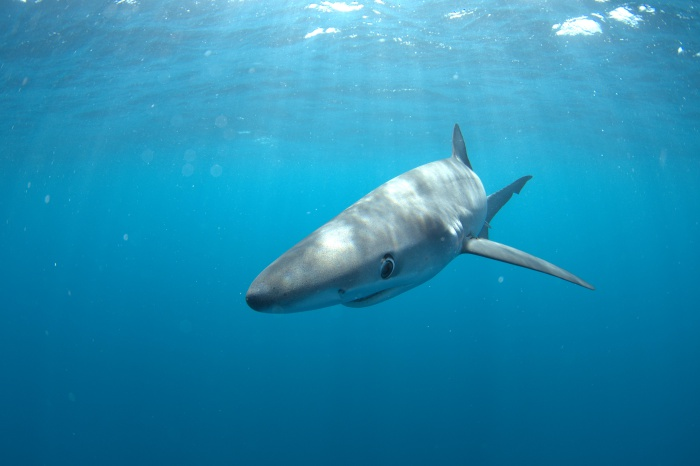Azul: (224, 117, 601, 332)
